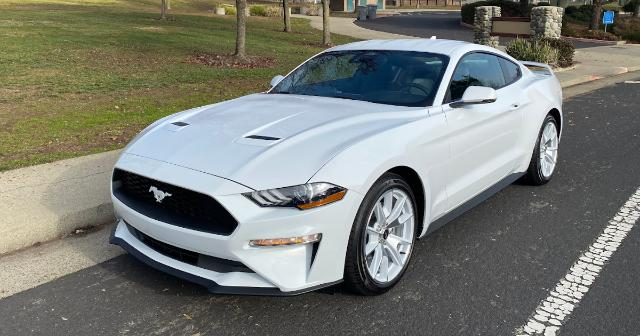ford-mustang: (109, 36, 564, 298)
